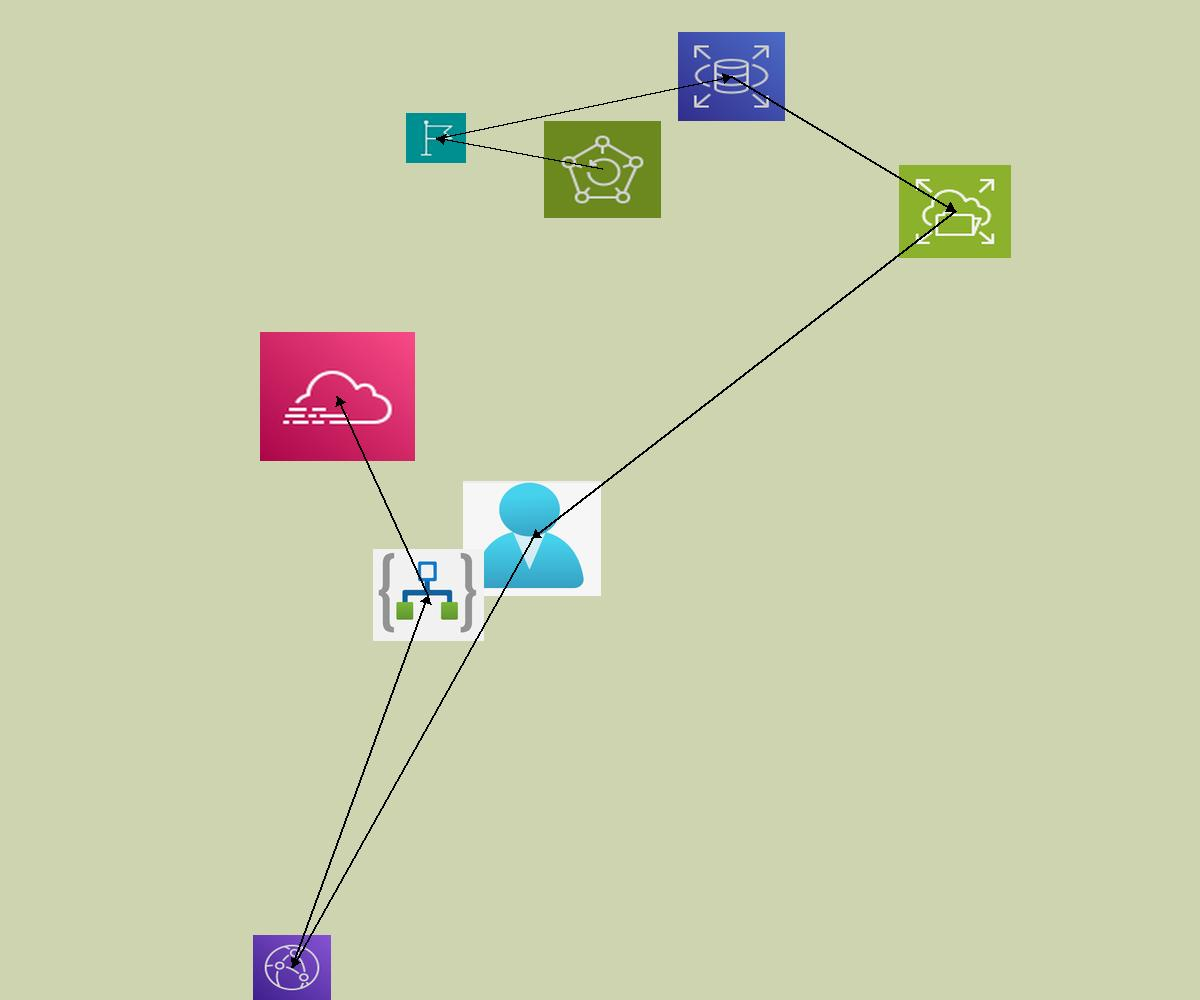AWS-Backup: (544, 121, 661, 218)
AWS-CloudFront: (253, 935, 331, 1000)
AWS-CloudTrail: (260, 332, 415, 461)
AWS-EFS: (899, 165, 1011, 258)
AWS-RDS: (678, 32, 785, 121)
AWS-Region: (406, 113, 466, 163)
Azure_integration-204-Logic-Apps: (373, 549, 484, 641)
Azure_users: (463, 481, 601, 596)
